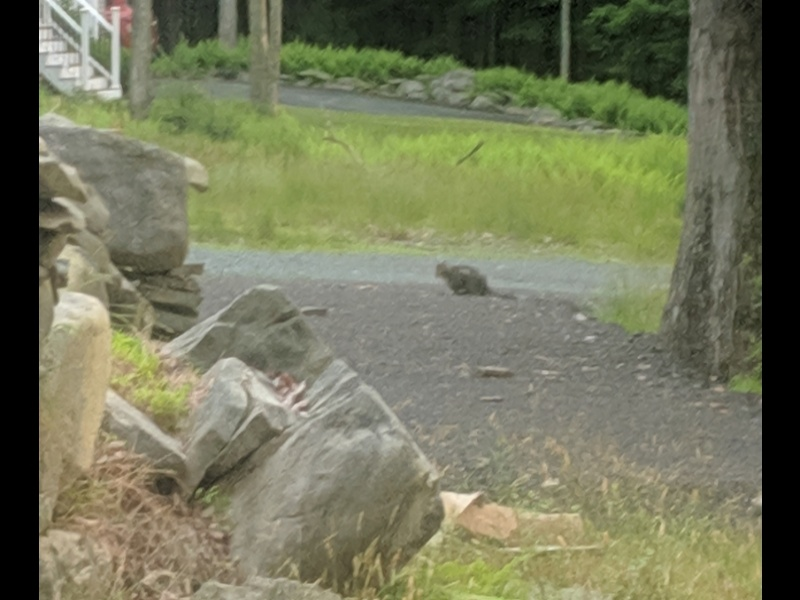cat: (430, 257, 518, 306)
